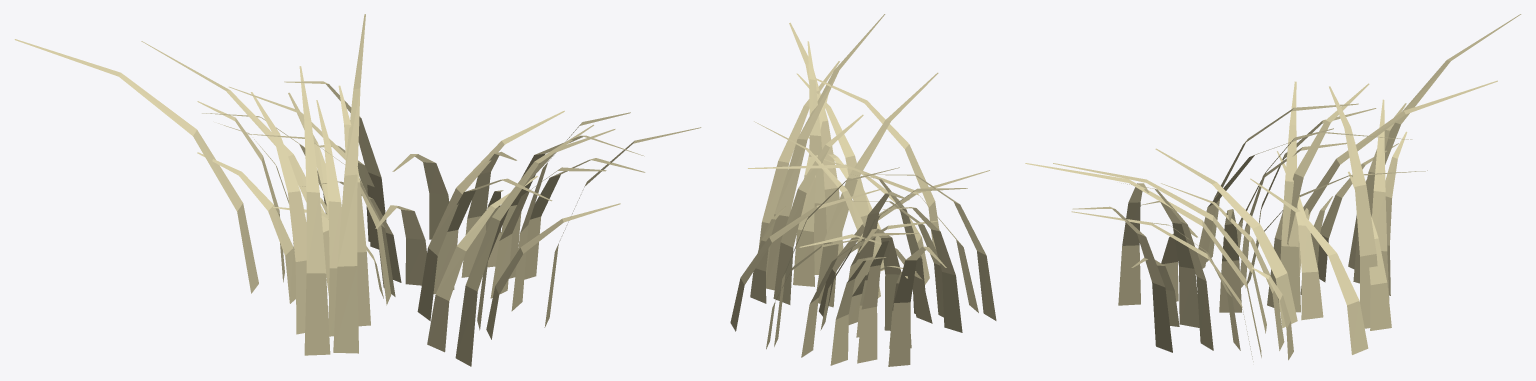
Rendered from DryGrassTussock.glb.
The picture shows the model from 3 angles, left to right: view 1: azimuth 30°, elevation 25°; view 2: azimuth 150°, elevation 25°; view 3: azimuth 270°, elevation 25°; orthographic projection. The views are drawn at different scales.
Visible parts, largest first — view 1: dry-grass-tussock; view 2: dry-grass-tussock; view 3: dry-grass-tussock.
Part boxes in pixels (x1,y1,x2,y2): dry-grass-tussock: (14, 14, 701, 366); dry-grass-tussock: (730, 14, 996, 366); dry-grass-tussock: (1025, 14, 1521, 361).
Bounding box in the file's own units: 0.9672 × 0.4676 × 1.08.
